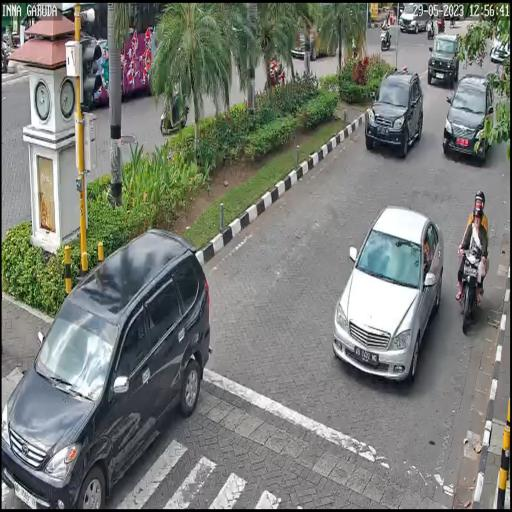mobil: (0, 234, 211, 506), (331, 202, 445, 380), (364, 71, 421, 153), (444, 74, 494, 165), (428, 32, 460, 89)
motor: (455, 242, 486, 338)
